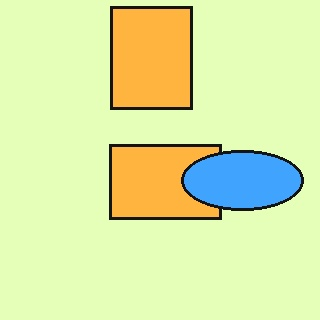circle_target: (182, 150, 303, 210)
square_target: (110, 7, 192, 110), (110, 144, 221, 219)
